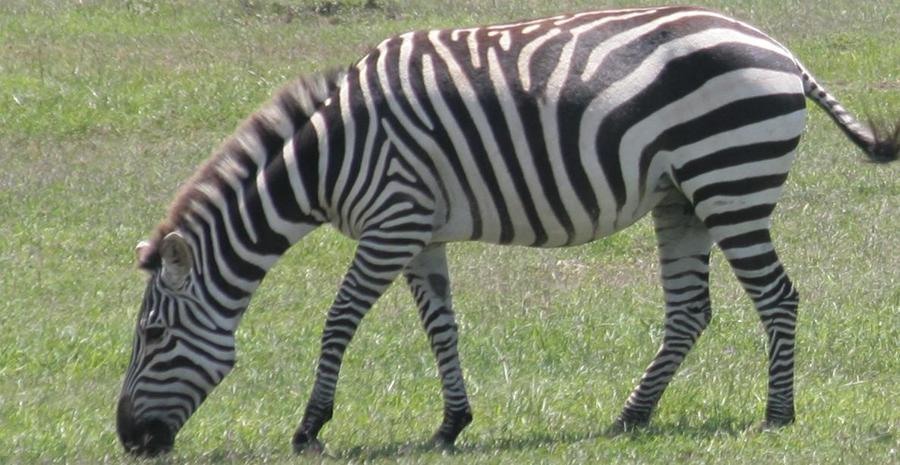zebra_plains: (276, 18, 845, 333)
